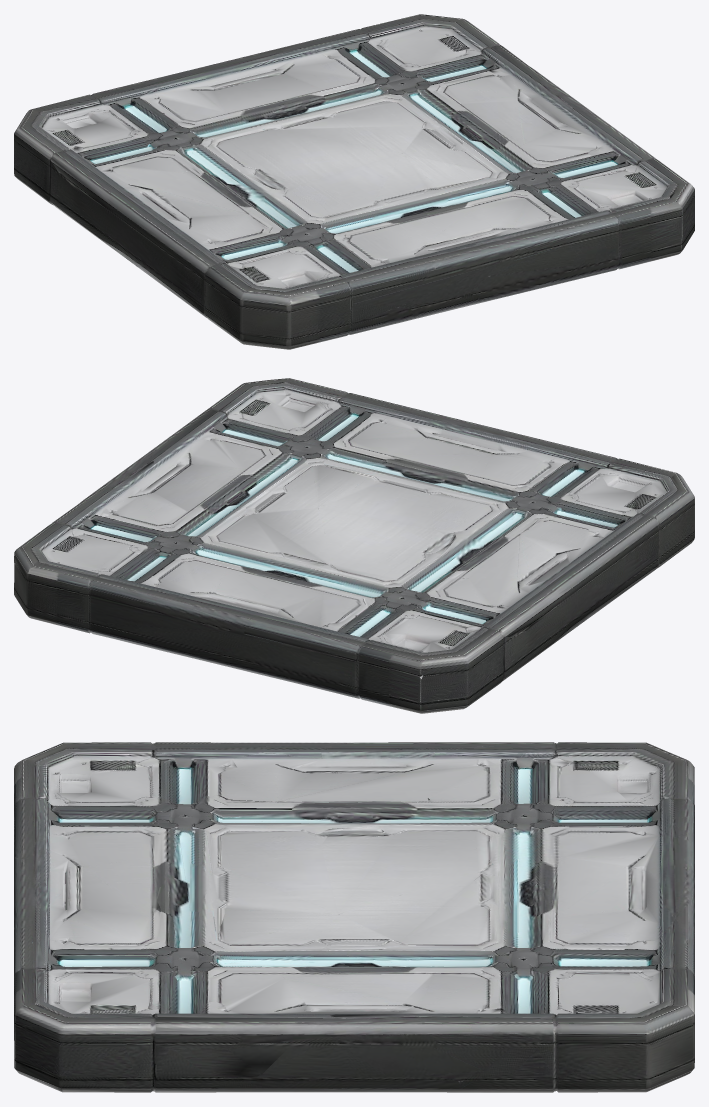
File: floor.glb
The picture shows the model from 3 angles, top to bottom: view 1: azimuth 30°, elevation 25°; view 2: azimuth 150°, elevation 25°; view 3: azimuth 270°, elevation 25°; orthographic projection. The views are drawn at different scales.
Parts seen in each view (by area): view 1: Mesh_0; view 2: Mesh_0; view 3: Mesh_0.
Part boxes in pixels (x1,y1,x2,y2): Mesh_0: (14, 14, 694, 349); Mesh_0: (14, 378, 694, 713); Mesh_0: (14, 742, 694, 1092).
Size of the model in its own units: 0.0266 by 0.003 by 0.0266.
Materials: 1 (1 with a texture image).
